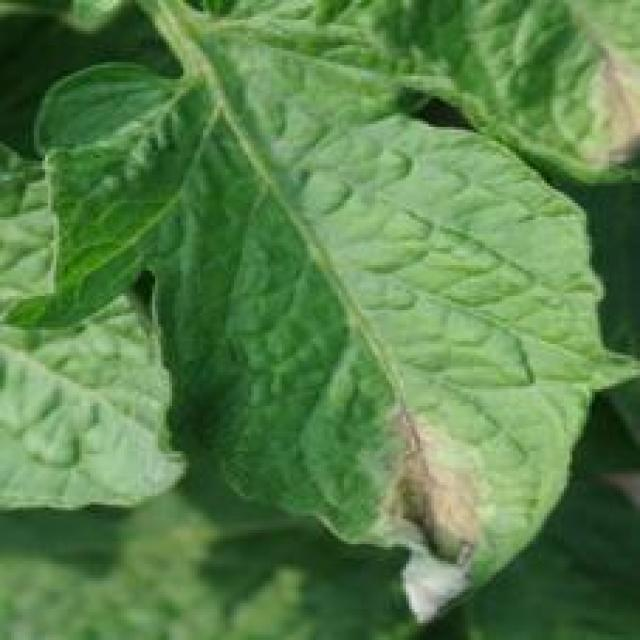Late Blight: (28, 20, 640, 626)
